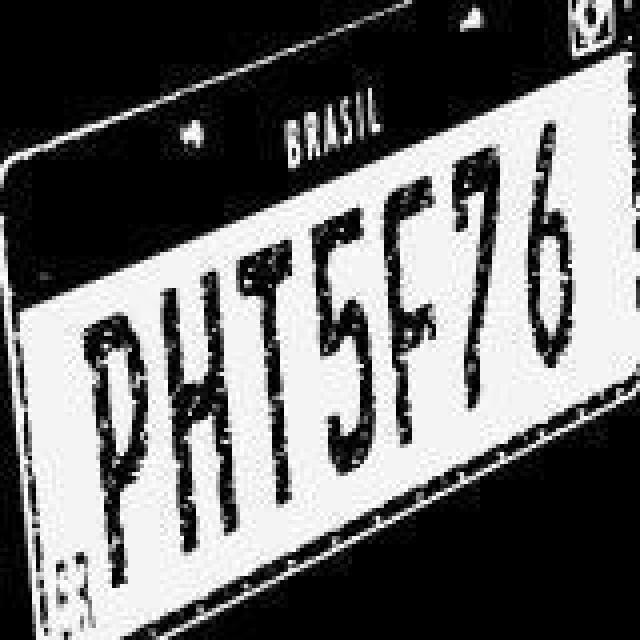5: (312, 198, 376, 490)
6: (516, 122, 580, 374)
7: (444, 142, 516, 426)
F: (380, 166, 444, 458)
H: (152, 258, 240, 542)
P: (82, 310, 150, 586)
T: (236, 228, 308, 524)
